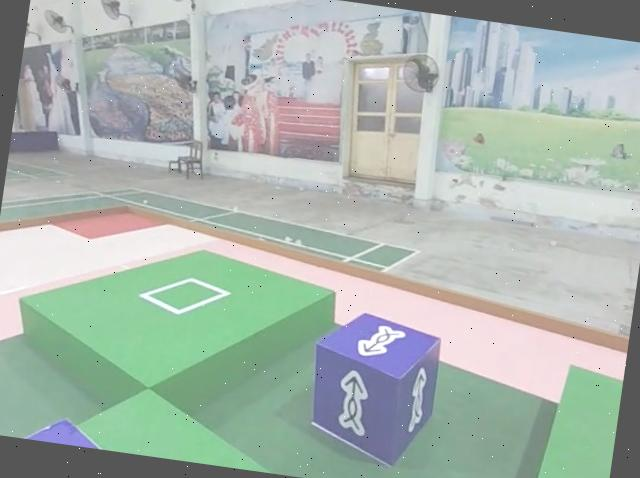R2 Real Blue: (297, 308, 444, 474)
